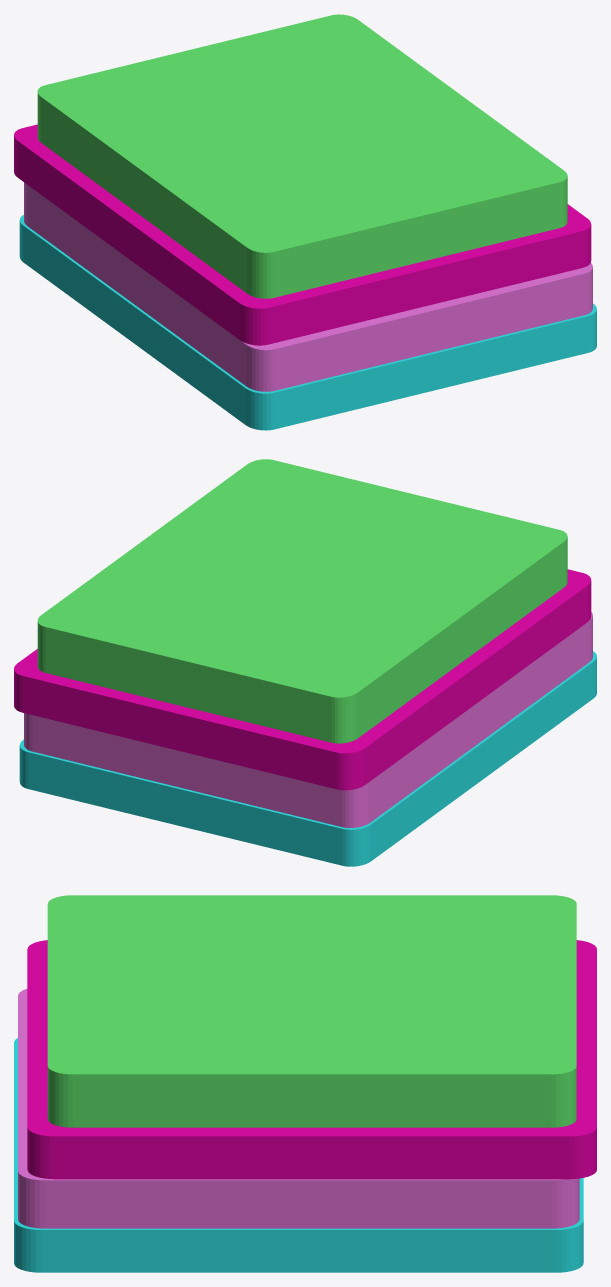
File: LayoutClothes_1.fbx
3 views of the same model, one above another, from view 1: azimuth 30°, elevation 25°; view 2: azimuth 150°, elevation 25°; view 3: azimuth 270°, elevation 25° (orthographic). The views are drawn at different scales.
Parts seen in each view (by area): view 1: Cube.013, Cube.014, Cube.012, Cube.011; view 2: Cube.013, Cube.014, Cube.011, Cube.012; view 3: Cube.013, Cube.014, Cube.012, Cube.011.
Part boxes in pixels (left/top/right/bottom): Cube.013: left=37, top=14, right=567, bottom=298; Cube.014: left=14, top=124, right=591, bottom=345; Cube.012: left=24, top=182, right=592, bottom=391; Cube.011: left=19, top=215, right=596, bottom=430; Cube.013: left=37, top=459, right=567, bottom=743; Cube.014: left=14, top=569, right=591, bottom=790; Cube.011: left=19, top=651, right=596, bottom=866; Cube.012: left=24, top=612, right=592, bottom=827; Cube.013: left=47, top=895, right=576, bottom=1127; Cube.014: left=27, top=940, right=596, bottom=1179; Cube.012: left=18, top=989, right=579, bottom=1228; Cube.011: left=14, top=1038, right=583, bottom=1272.
Bounding box in the file's own units: 65.05 × 29.22 × 81.45.
